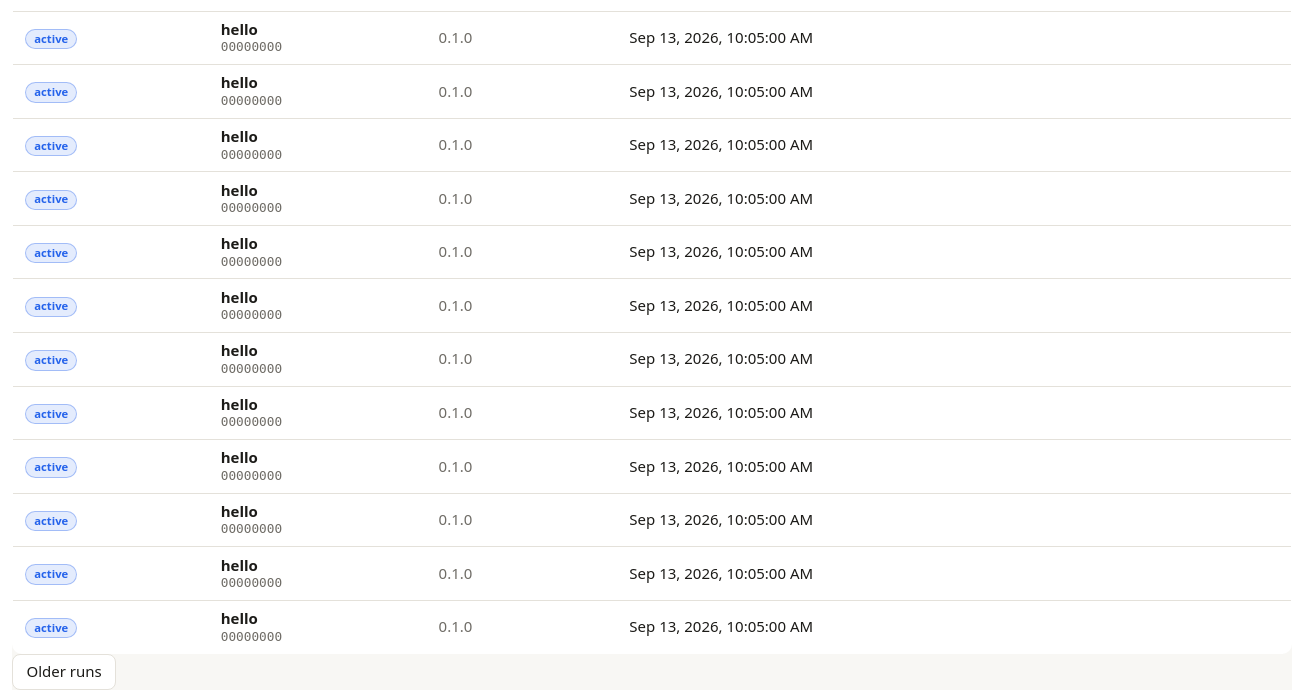
Scenario: RunsPage › pages with the last run as the cursor
This screenshot has width=1292, height=690.
(page scrolled)
Step 1. Click the button "Older runs" → (64, 672), box left=12, top=654, right=116, bottom=689
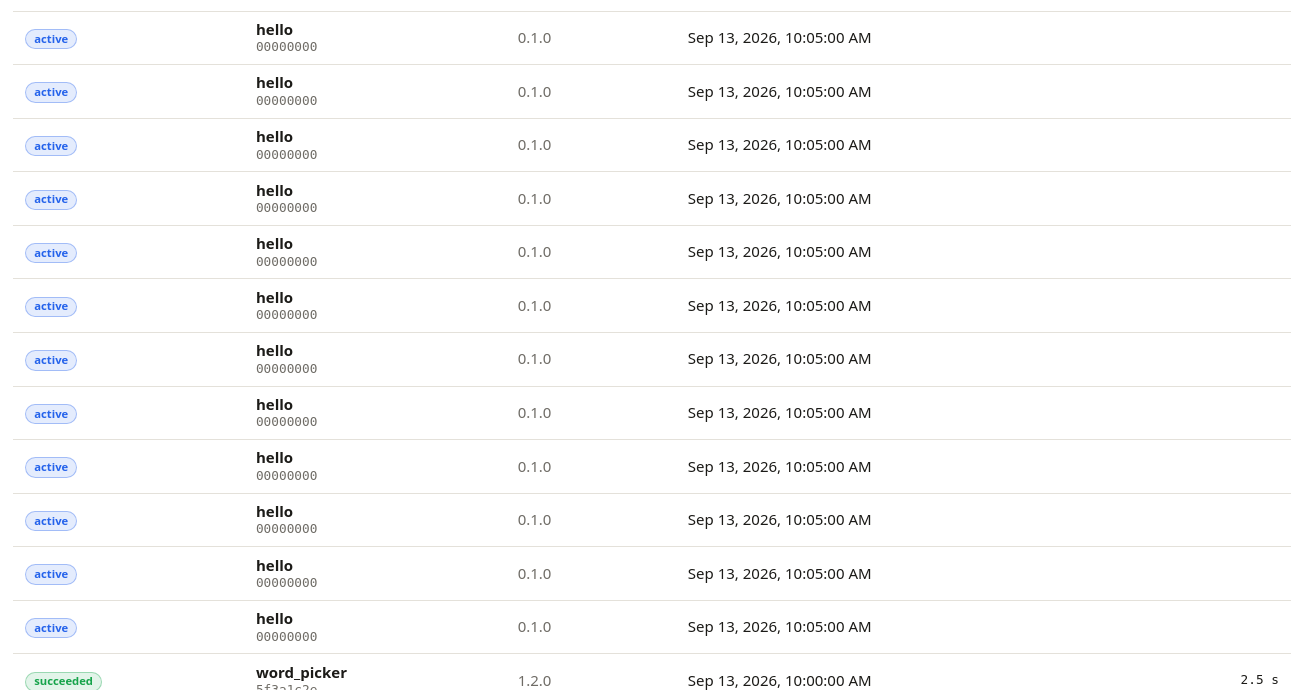
Now the button "Older runs" is gone
